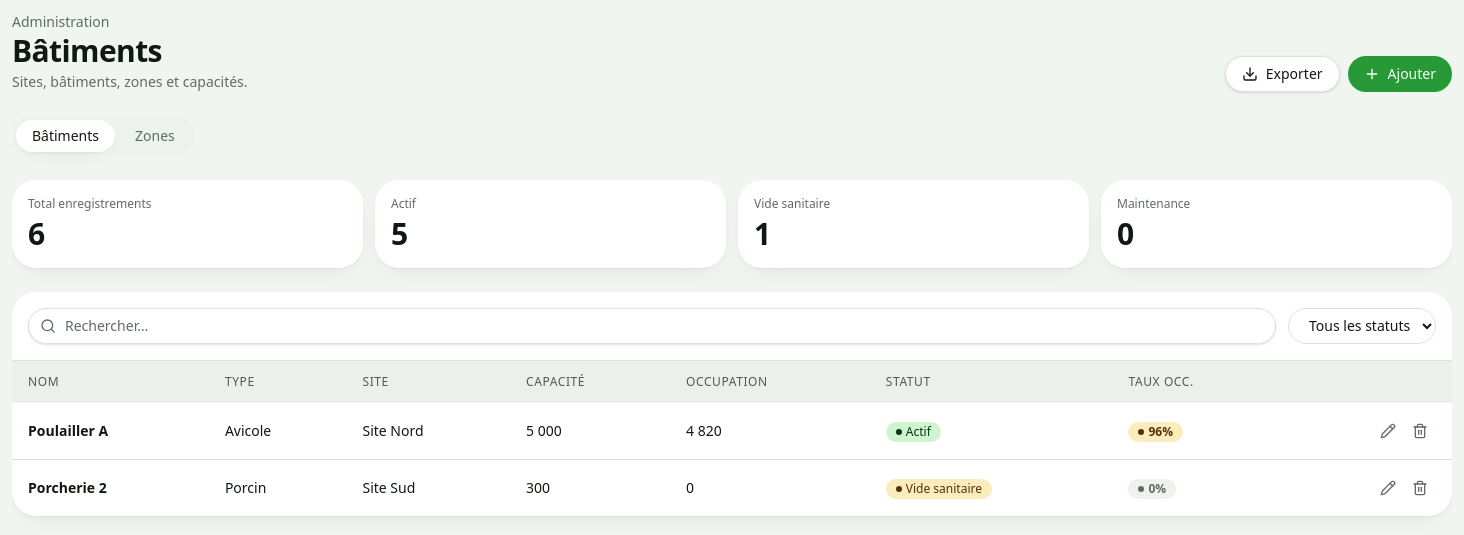
ModulePage with the batiments config › renders the second tab with its own list
Expected: the text "Poulailler A" is shown, [12,402,209,459]
Click the tab "Zones".
click(155, 136)  # box [119,120,191,152]
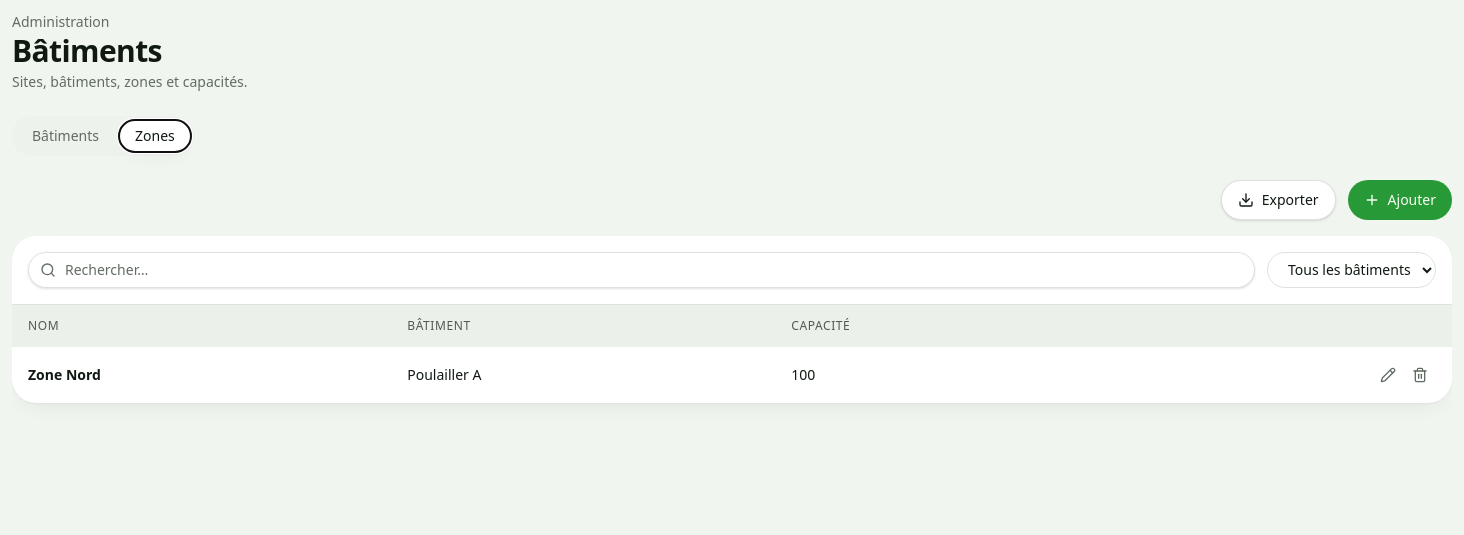
Expected: the text "Zone Nord" is shown, [12,346,391,402]
Expected: the text "Total enregistrements" is gone
